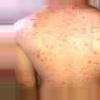Acne: (30, 50, 58, 72), (86, 58, 100, 80), (75, 23, 87, 39)
